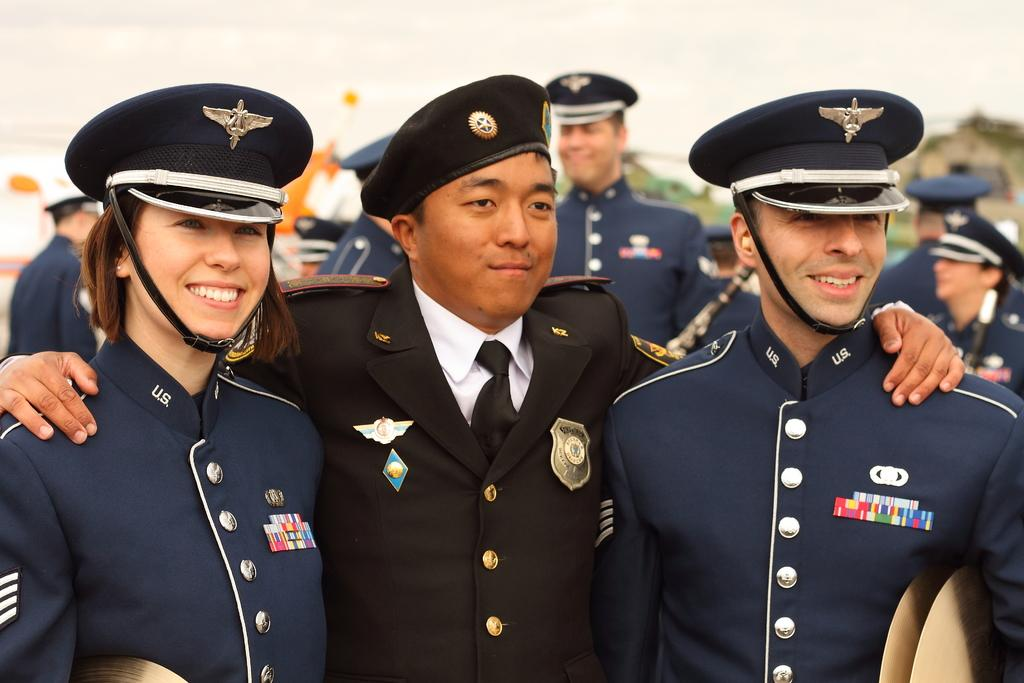Hat: (64, 77, 316, 354), (684, 88, 924, 336), (924, 207, 1022, 278), (544, 70, 637, 124), (906, 170, 992, 208), (340, 132, 390, 182)
